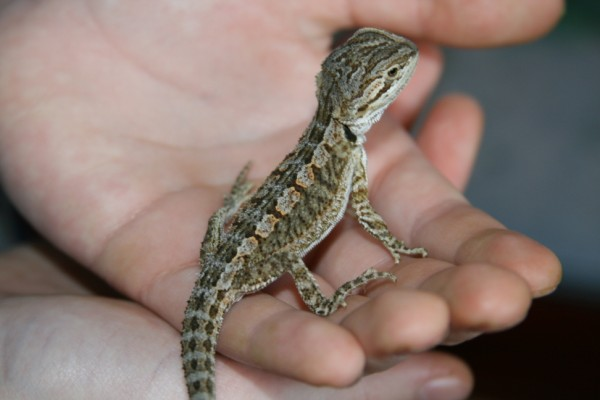bearded: (180, 26, 429, 400)
